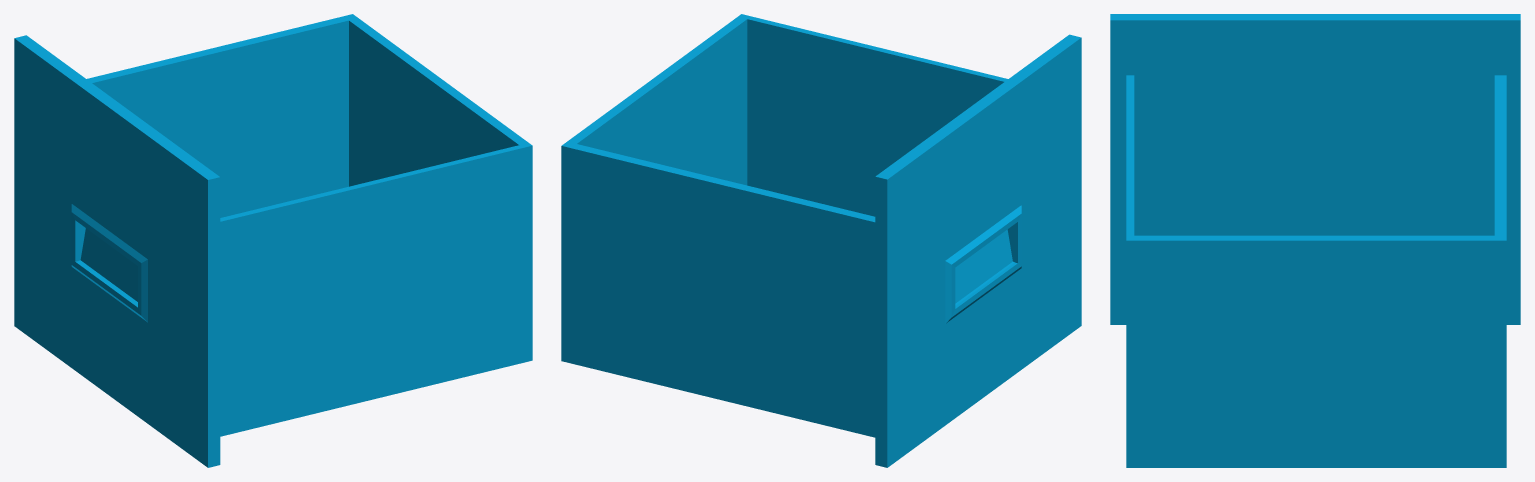
The model's file is Office_Furniture_02_Drawer_02_Lod.fbx.
The picture shows the model from 3 angles, left to right: view 1: azimuth 30°, elevation 25°; view 2: azimuth 150°, elevation 25°; view 3: azimuth 270°, elevation 25°; orthographic projection. The views are drawn at different scales.
Parts seen in each view (by area): view 1: Office_Furniture_02_Drawer_02_Lod; view 2: Office_Furniture_02_Drawer_02_Lod; view 3: Office_Furniture_02_Drawer_02_Lod.
Part boxes in pixels (x1,y1,x2,y2): Office_Furniture_02_Drawer_02_Lod: (14, 14, 532, 467); Office_Furniture_02_Drawer_02_Lod: (561, 14, 1081, 467); Office_Furniture_02_Drawer_02_Lod: (1110, 14, 1520, 467).
Bounding box in the file's own units: 26.76 × 21.94 × 26.77.
